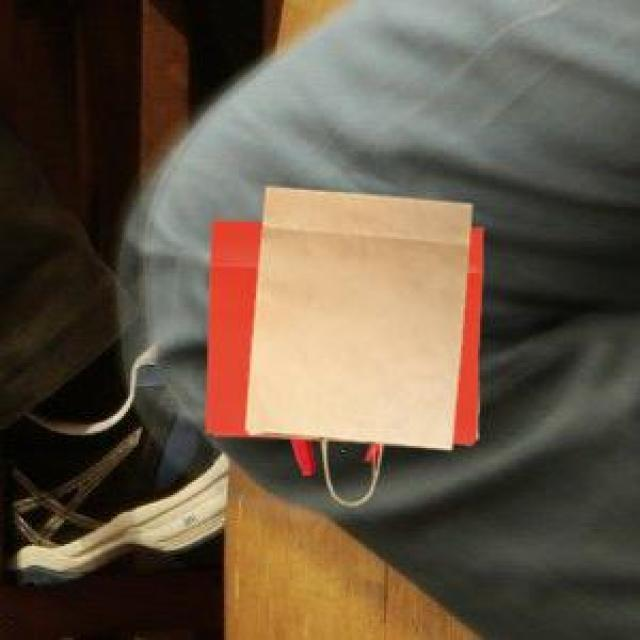paper: (203, 216, 478, 472), (241, 184, 467, 463)
